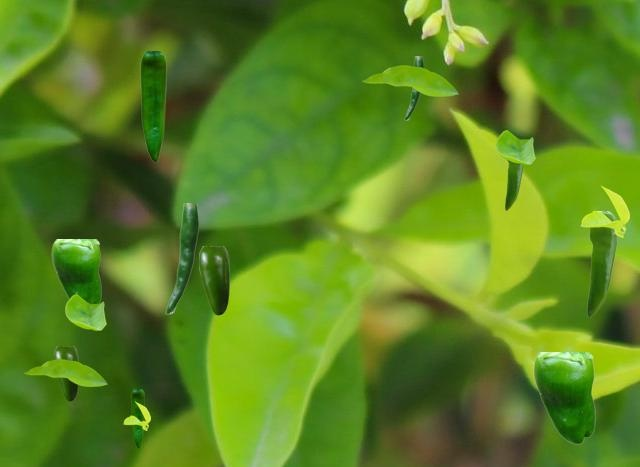green_chili: (533, 352, 594, 443), (165, 203, 197, 313), (51, 239, 100, 302), (587, 211, 616, 316), (140, 51, 165, 161), (199, 246, 228, 314), (54, 346, 77, 400), (404, 56, 422, 119), (505, 160, 523, 209), (131, 389, 143, 447)
